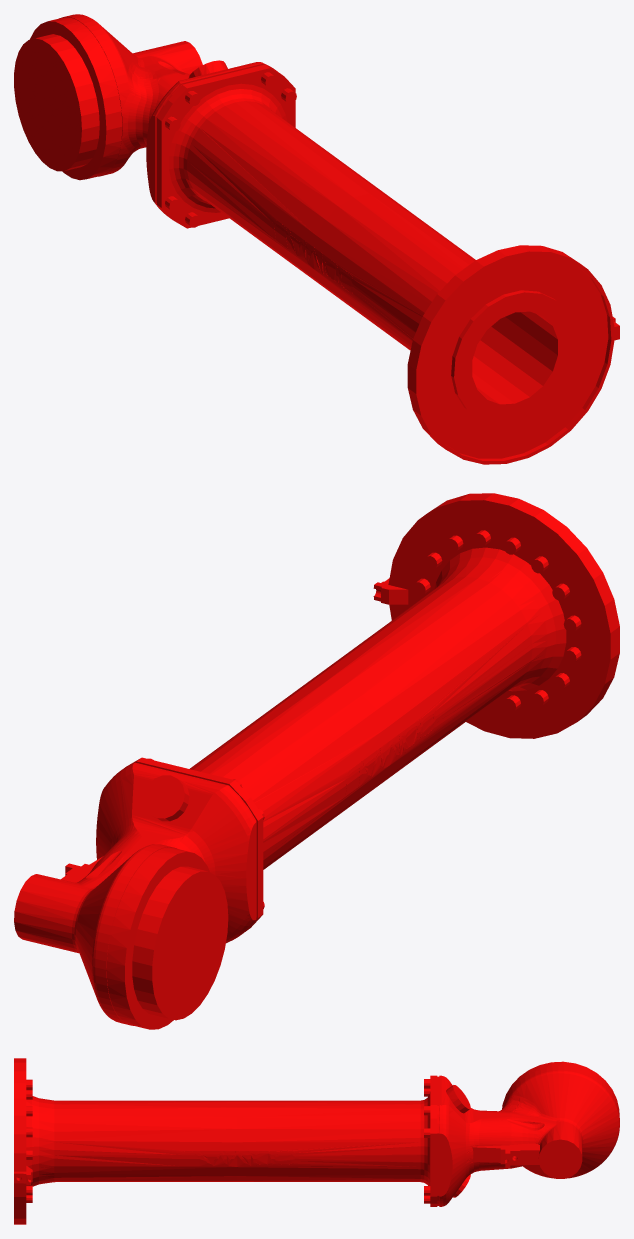
3 renders of one model, top to bottom at view 1: azimuth 30°, elevation 25°; view 2: azimuth 150°, elevation 25°; view 3: azimuth 270°, elevation 25°, orthographic. The views are drawn at different scales.
Parts seen in each view (by area): view 1: link_4; view 2: link_4; view 3: link_4.
Boxes of the visible parts, bbox=[...] form: link_4: bbox=[14, 14, 619, 464]; link_4: bbox=[14, 493, 619, 1029]; link_4: bbox=[14, 1058, 619, 1224].
Size of the model in its own units: 0.326 by 0.3108 by 1.13.
